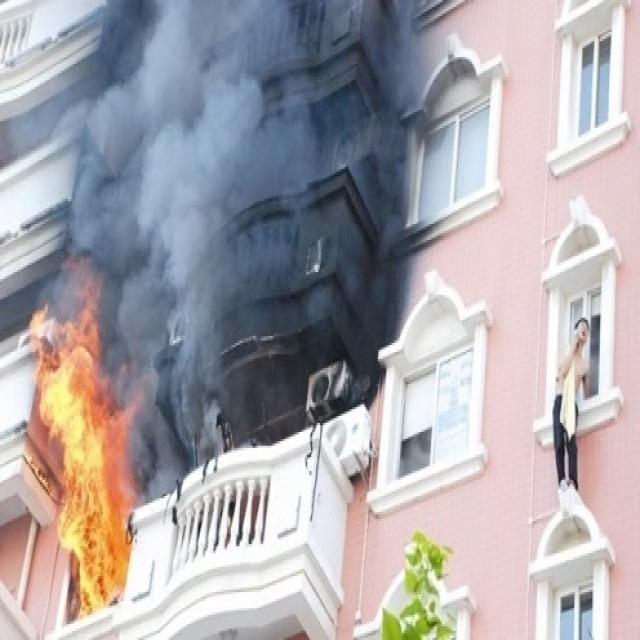Fire: (29, 260, 140, 618)
Smoke: (37, 2, 431, 503)
